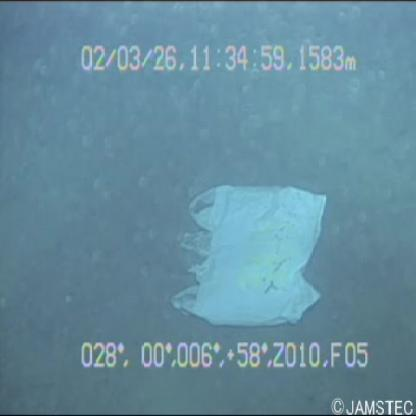Rác: (164, 164, 340, 351)
